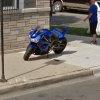Motorcycle: (18, 16, 74, 65)
